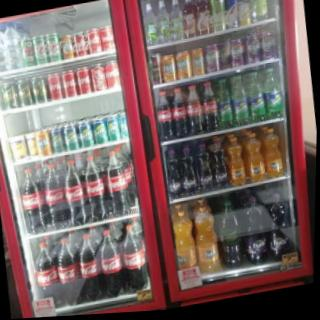beverage: (34, 158, 70, 231), (58, 155, 93, 230), (93, 225, 127, 300), (78, 152, 112, 226), (54, 233, 85, 307), (105, 146, 133, 218), (183, 82, 207, 140), (209, 137, 234, 191), (246, 131, 267, 183), (56, 68, 78, 103), (85, 60, 108, 89)
